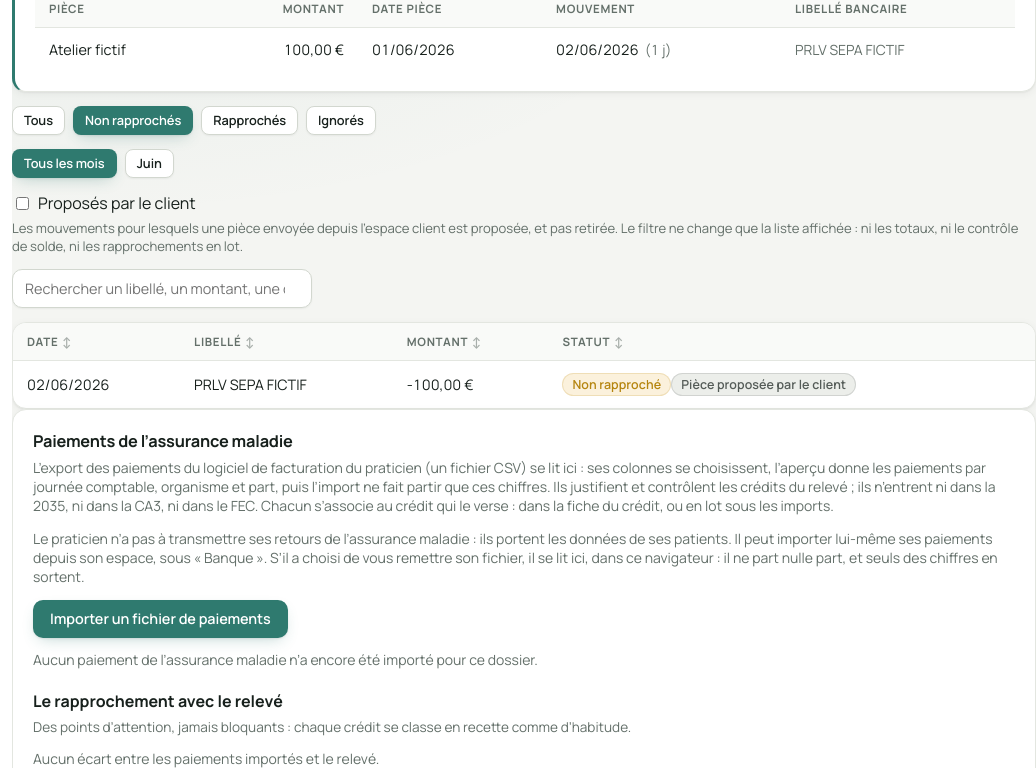
« Écarter cette proposition » : offert sur la pièce proposée par le client › une fois le mouvement rapproché de cette pièce, elle est retenue : rien à écarter
(page scrolled)
What coordinates should you click on to do the following:
click the text "PRLV SEPA FICTIF" in the row of "Pièce proposée par le client"
I would click on:
 (286, 384)
Its box is [180,360,393,408].
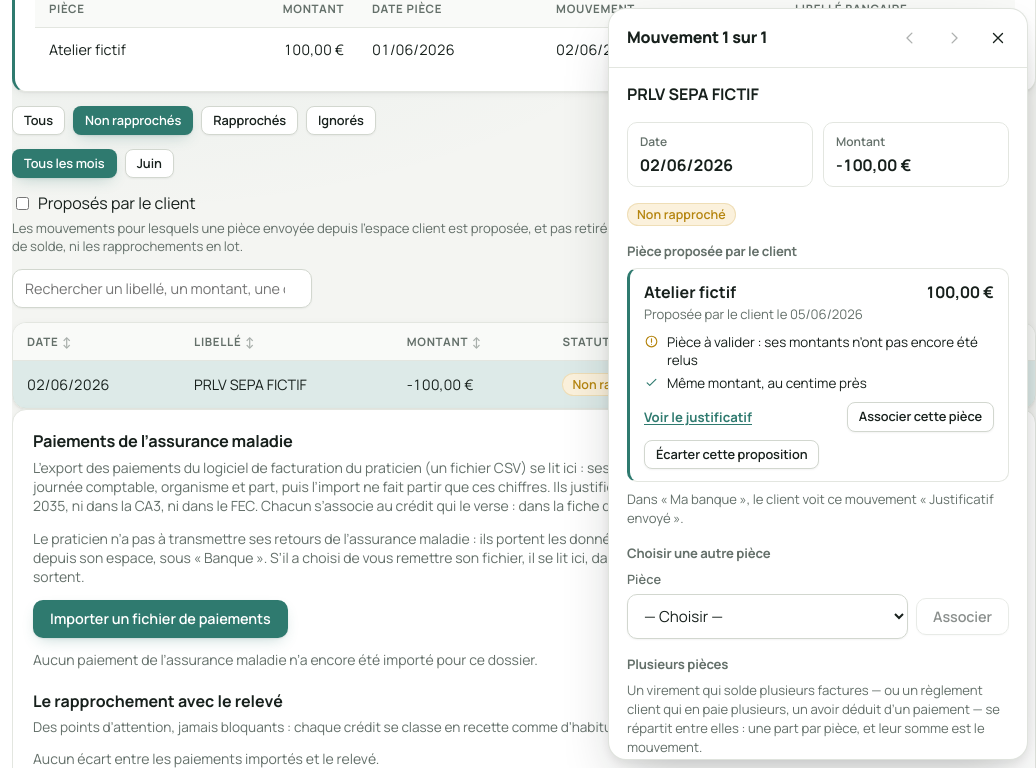
Expected: the button "Écarter cette proposition" is shown, [644,440,819,469]
What coordinates should you click on to do the following:
click the button "Associer cette pièce"
I would click on:
 (920, 417)
Its box is [847,402,994,432].
(page scrolled)
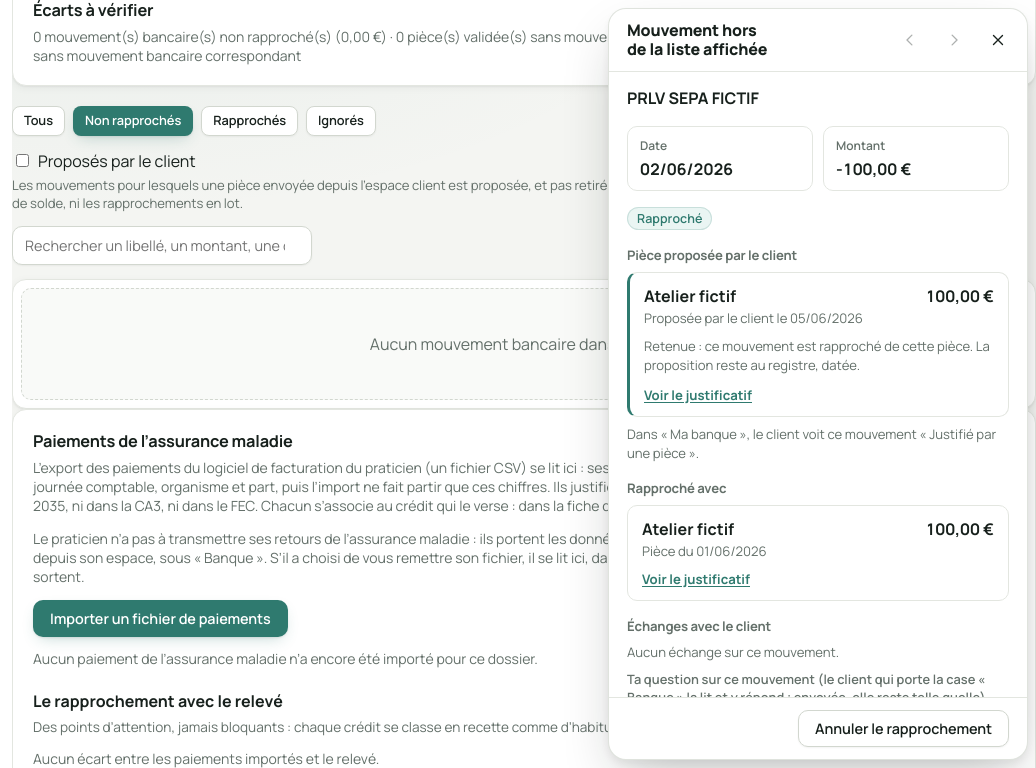
Expected: the text "Retenue : ce mouvement est rapproché de cette pièce" is shown, [644,337,990,374]
Expected: the button "Écarter cette proposition" is gone
